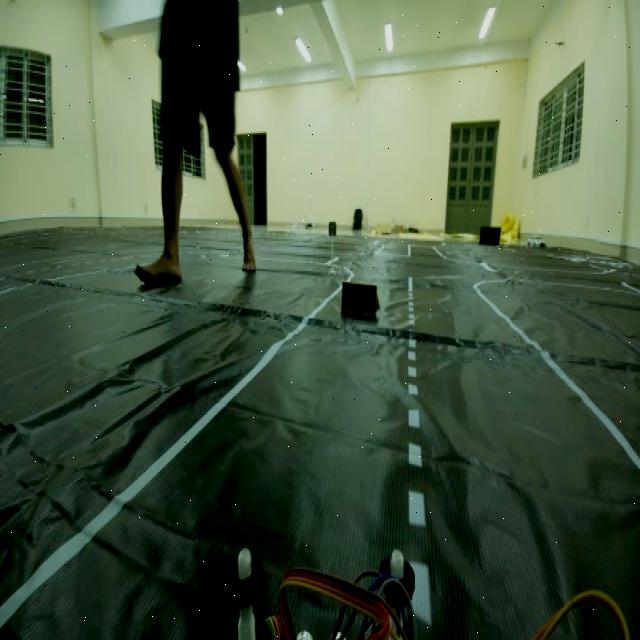roadblock: (334, 277, 390, 334)
